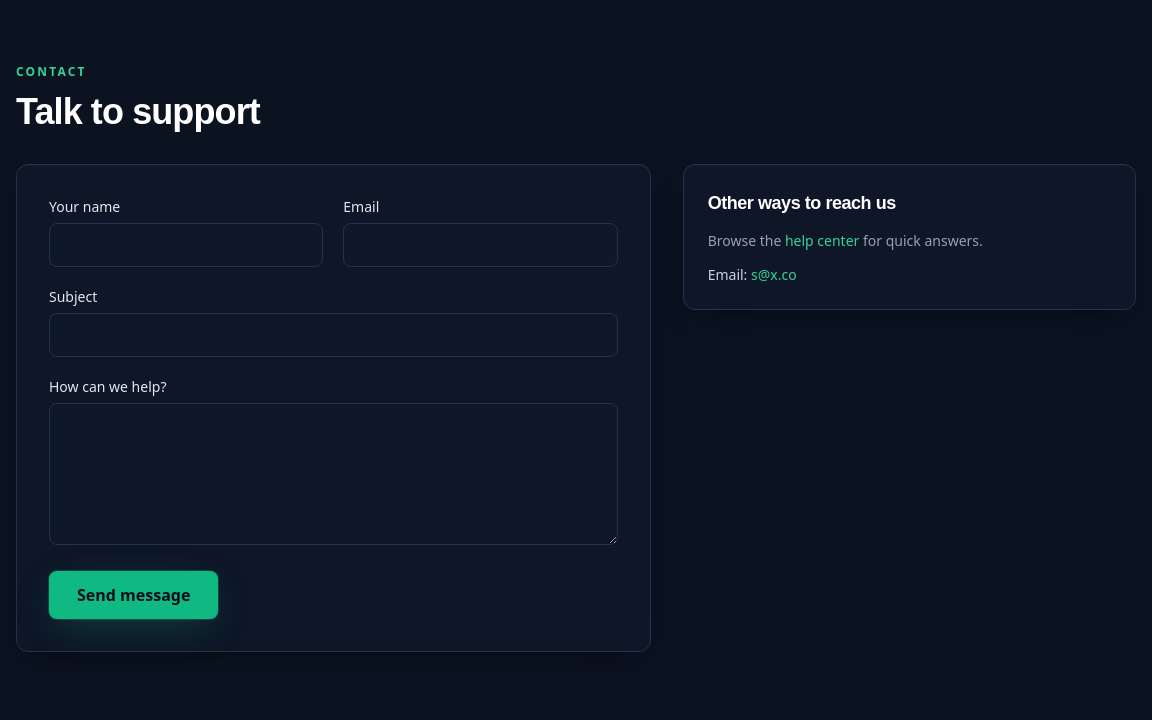
Contact form › blocks invalid submissions client-side and shows the reference on success
Click the button "Send message": (134, 595) [49,571,218,619]
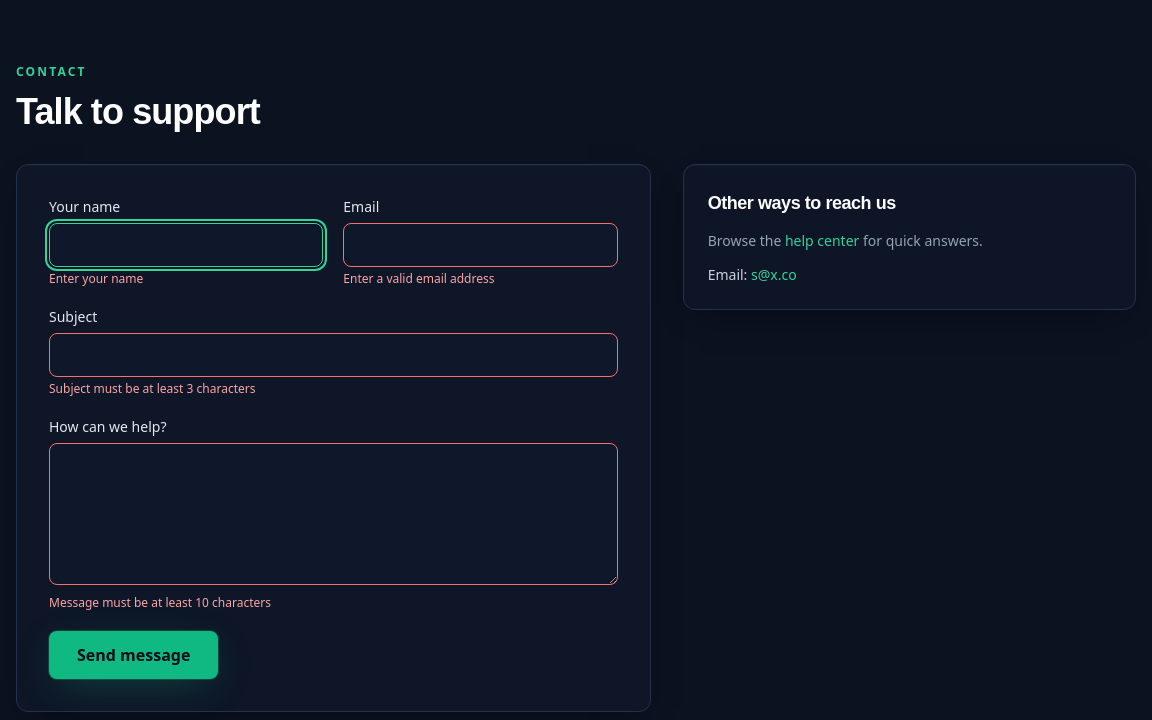
Result: the text "Enter your name" is shown at [49,270,143,287]
In the field labelled "Your name": (186, 245) [49,223,323,267], type "Ada Trader"
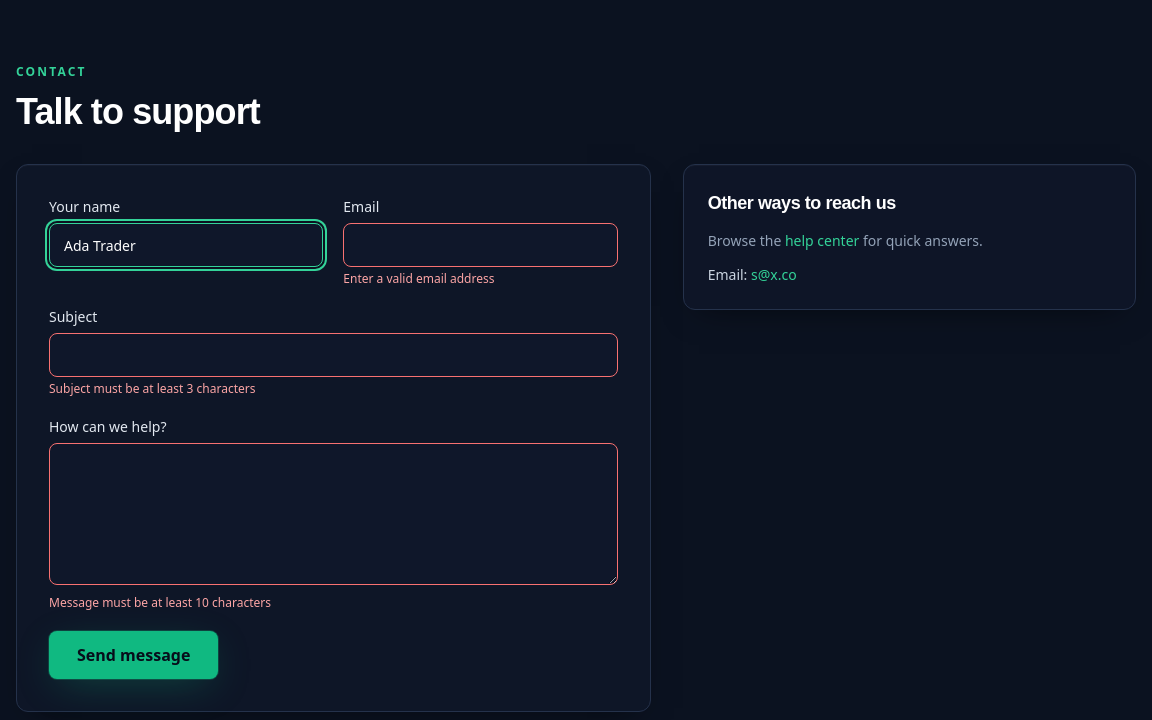
In the field labelled "Email": (480, 245) [343,223,618,267], type "ada@example.com"
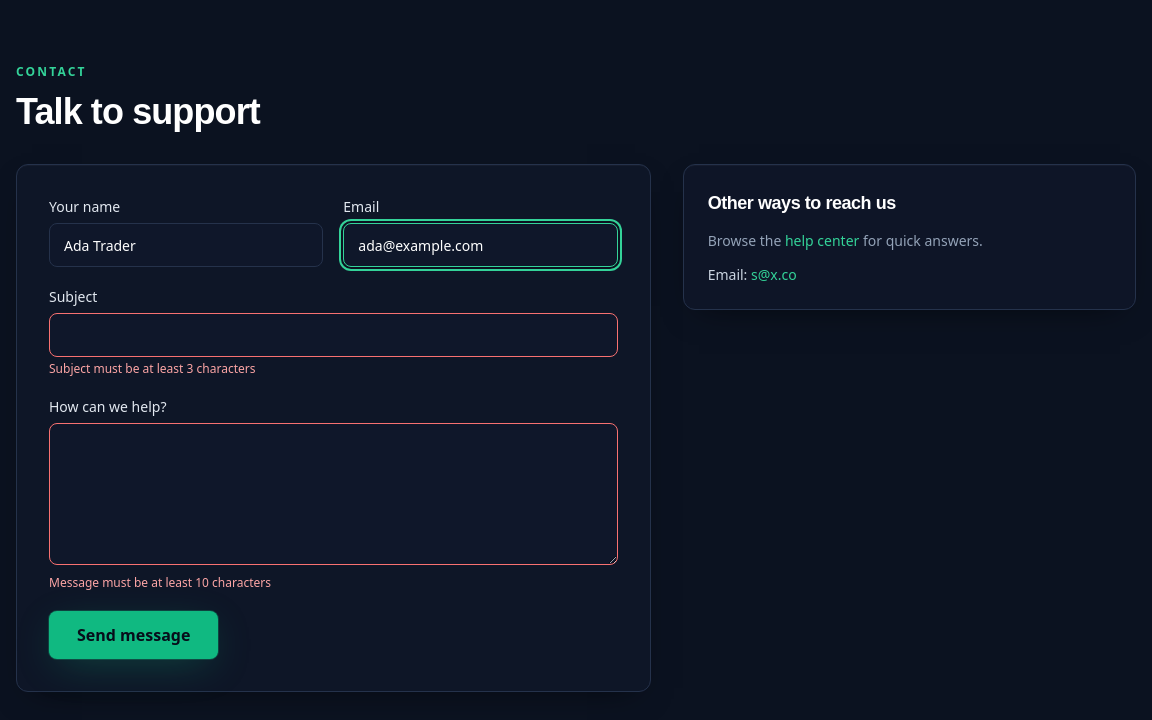
In the field labelled "Subject": (333, 335) [49,313,618,357], type "Question about rules"
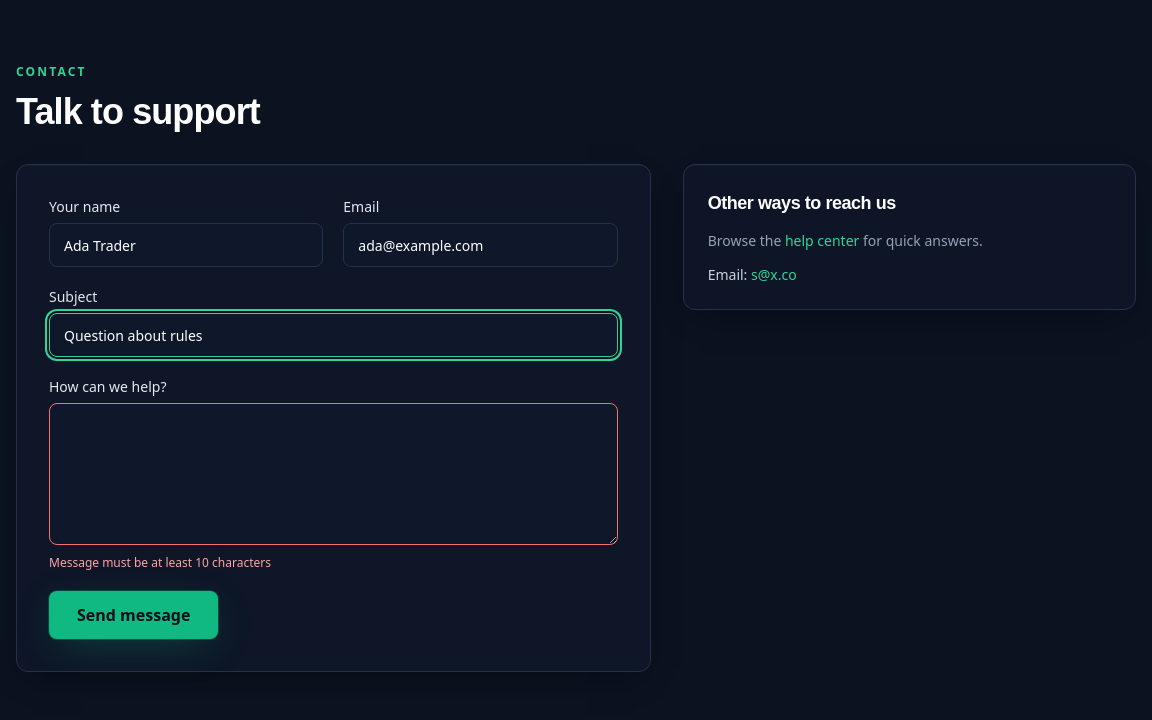
In the text box labelled "How can we help?": (333, 474) [49,403,618,545], type "Please explain the drawdown rules."
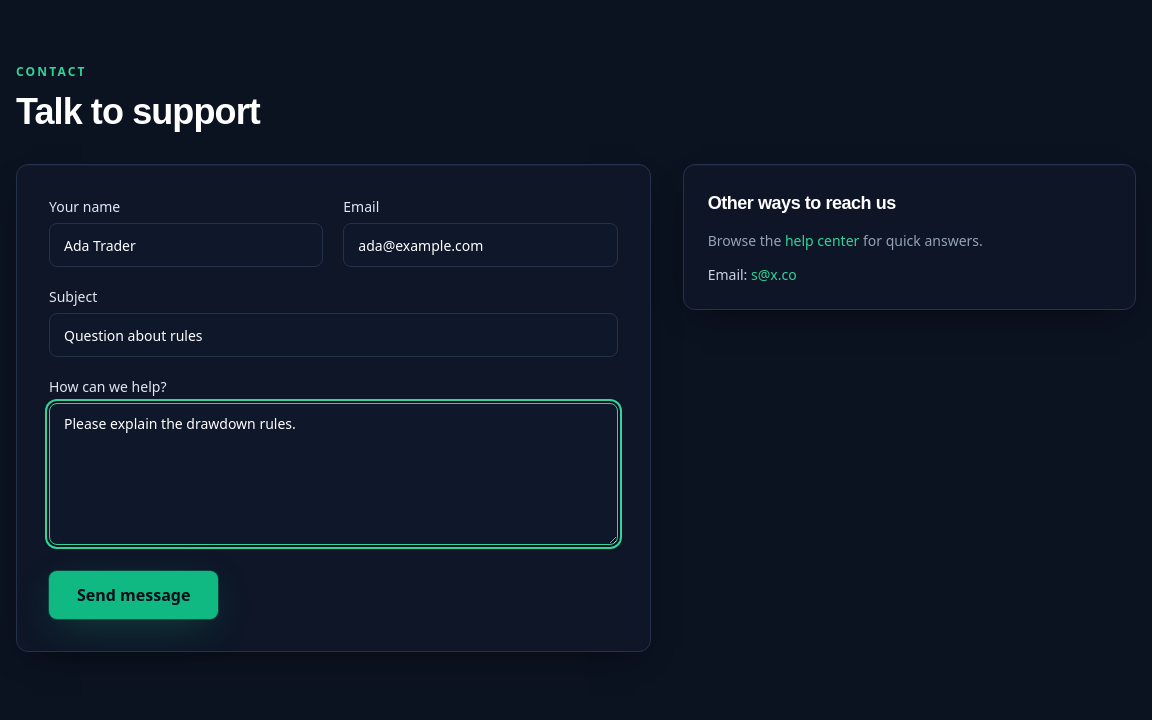
Click the button "Send message": (134, 595) [49,571,218,619]
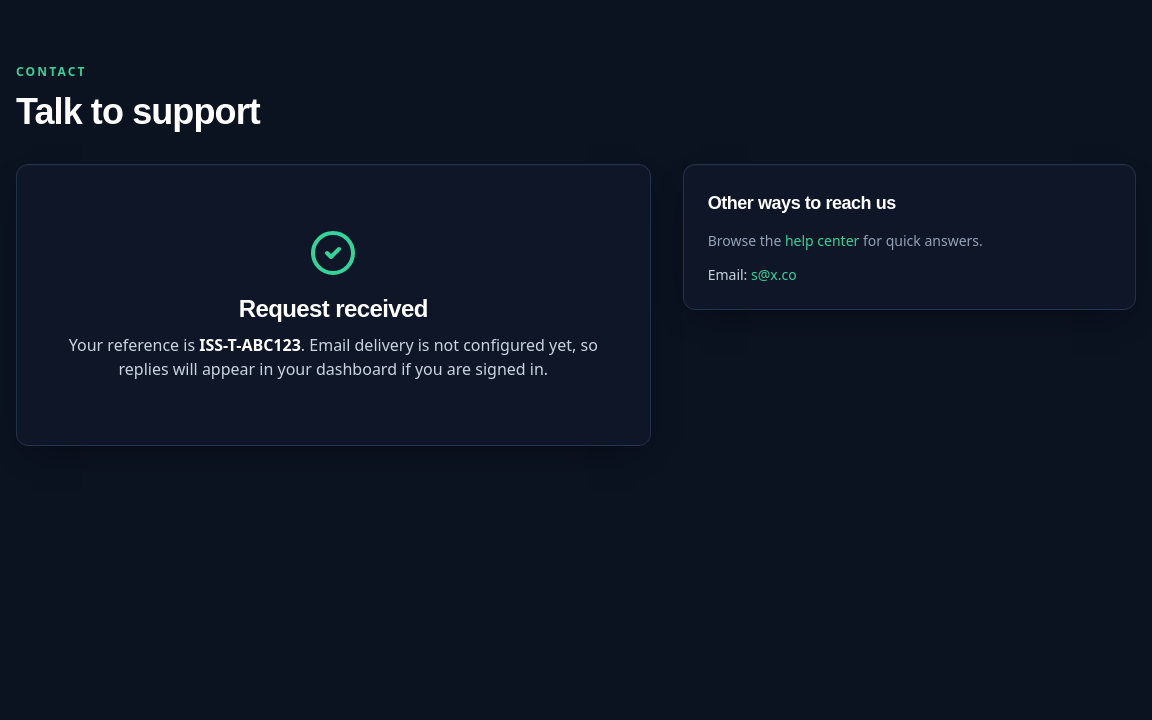
Result: the heading "Request received" is shown at [239,295,428,322]
Result: the text "ISS-T-ABC123" is shown at [199,334,301,356]
